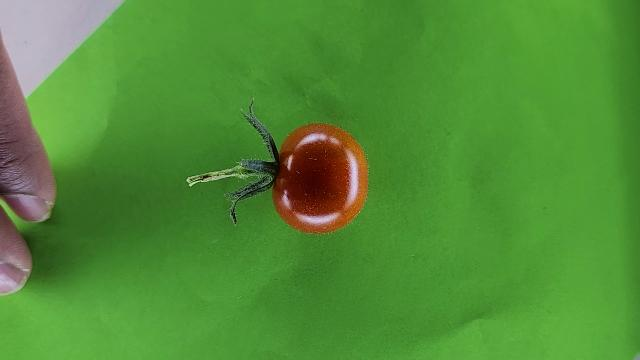Fully Grown: (271, 122, 371, 235)
